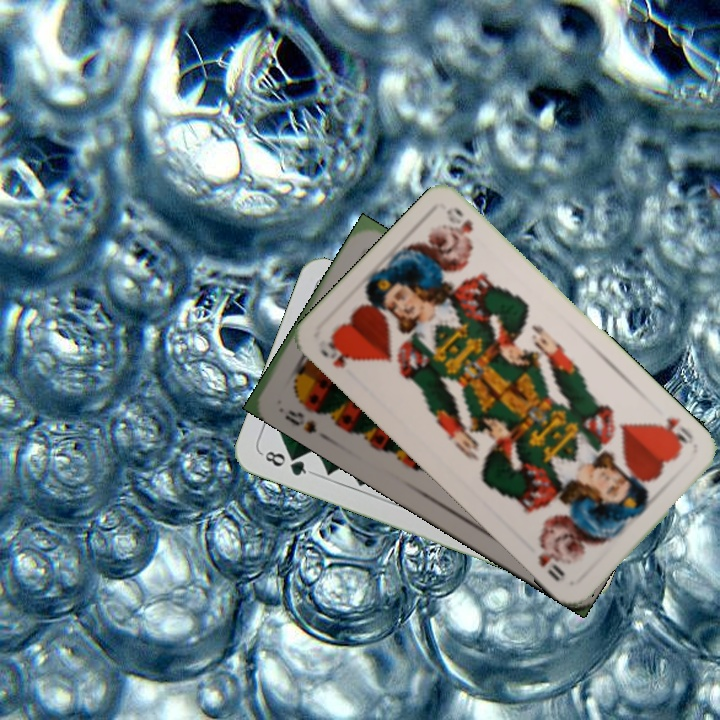G8: (258, 446, 315, 479)
HO: (650, 413, 696, 451), (315, 333, 357, 371)
S8: (280, 405, 320, 436)
